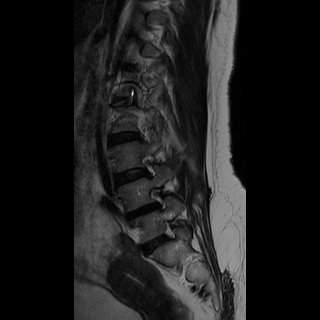RFS0: (137, 149, 159, 181)
RFS1: (144, 182, 169, 213)
